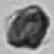correct: (3, 4, 52, 52)
